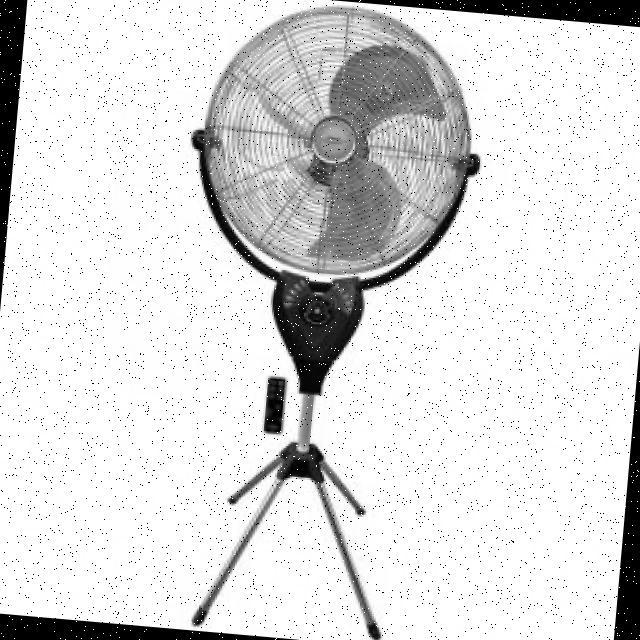fan: (160, 0, 503, 415)
